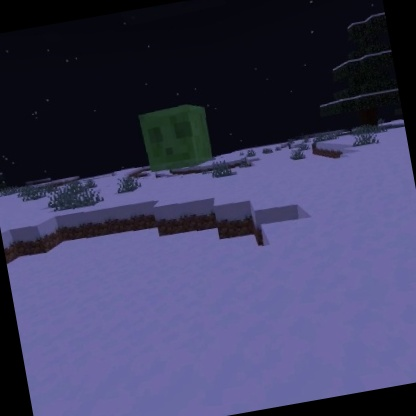slime: (138, 98, 218, 174)
